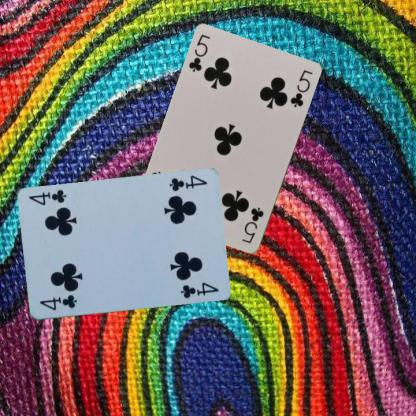4c: (36, 292, 78, 312), (166, 173, 208, 193)
5c: (186, 32, 212, 74), (239, 205, 265, 245)
